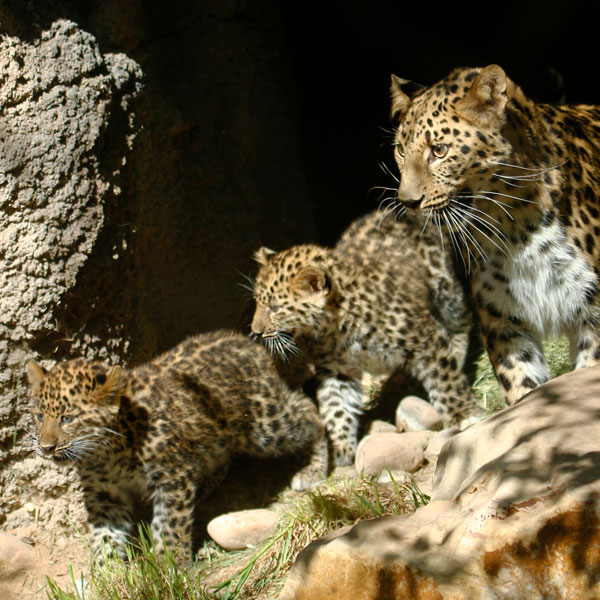amur_leopard: (364, 61, 576, 230), (239, 230, 373, 393), (11, 345, 145, 493)
